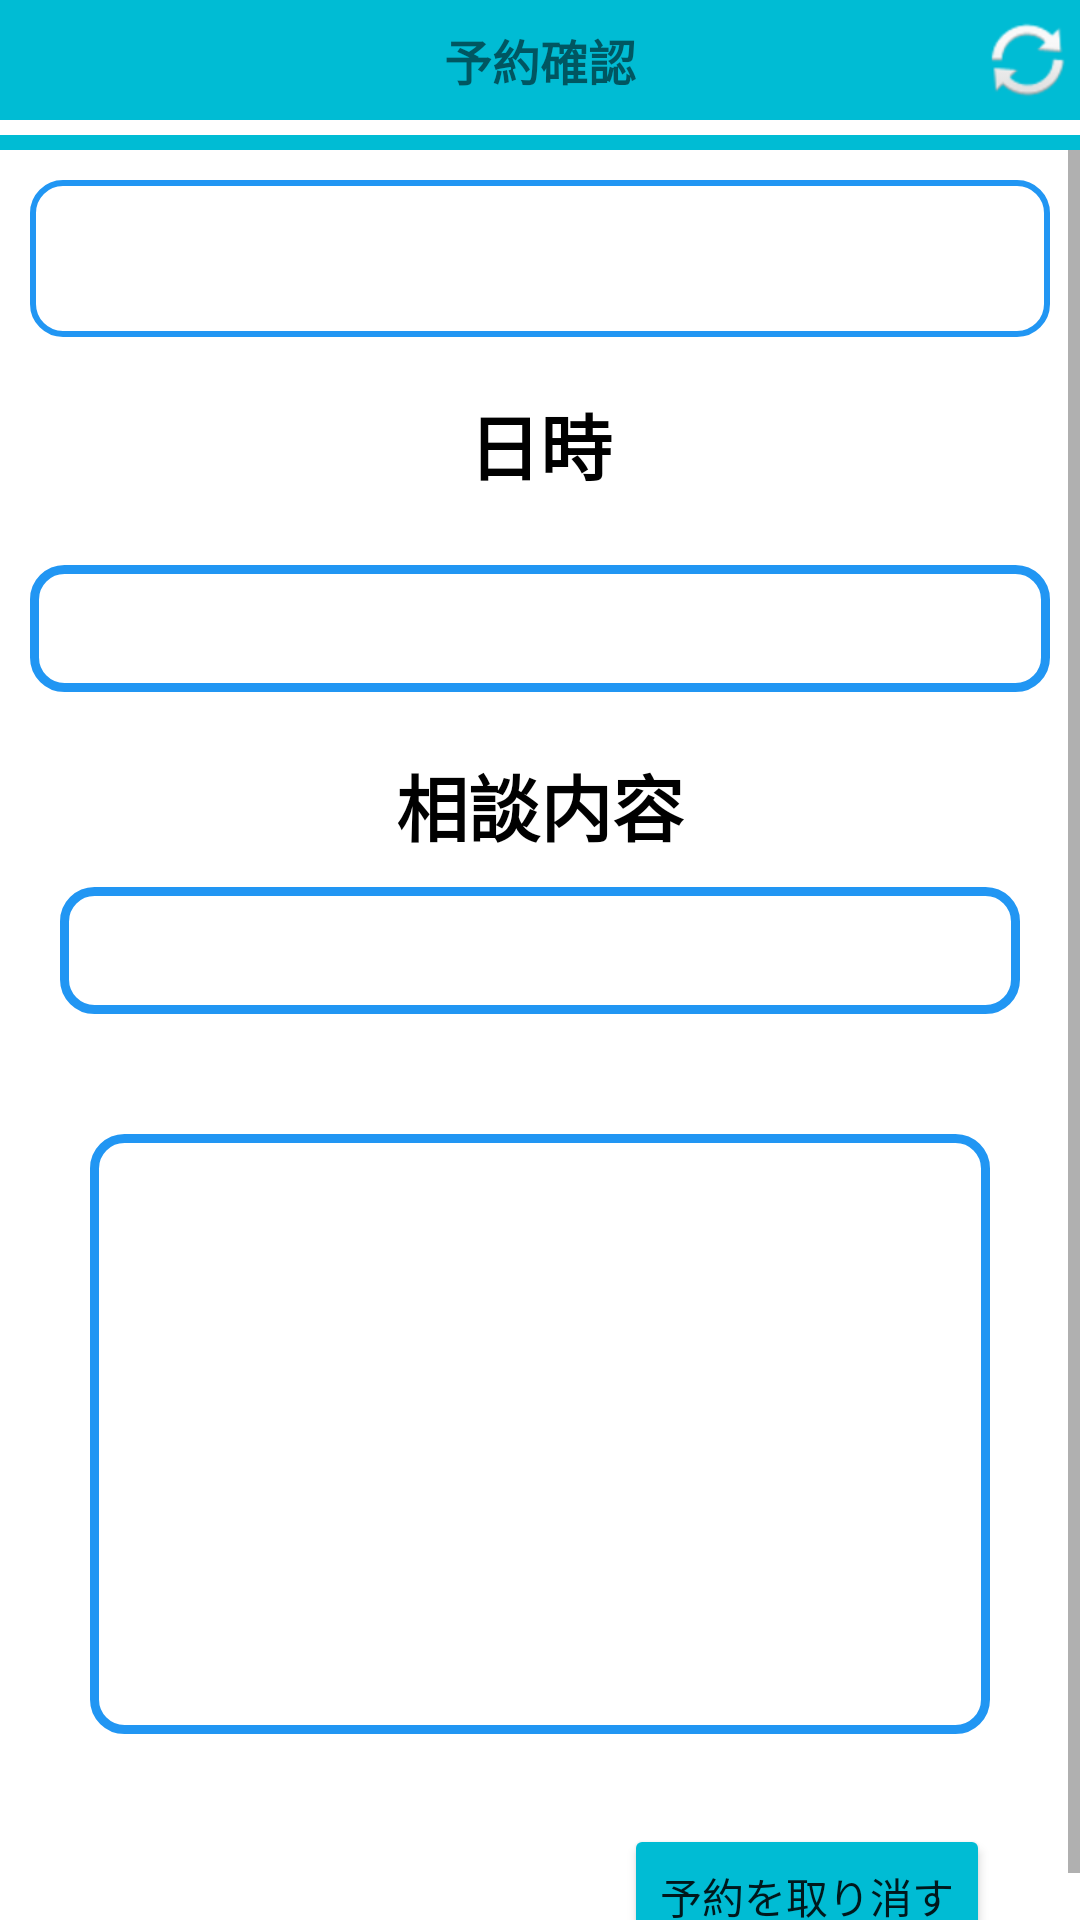

Where to tap for icons on this 1080w x 1920h app screen, as point (x, y):
popup sync: point (1028, 60)
